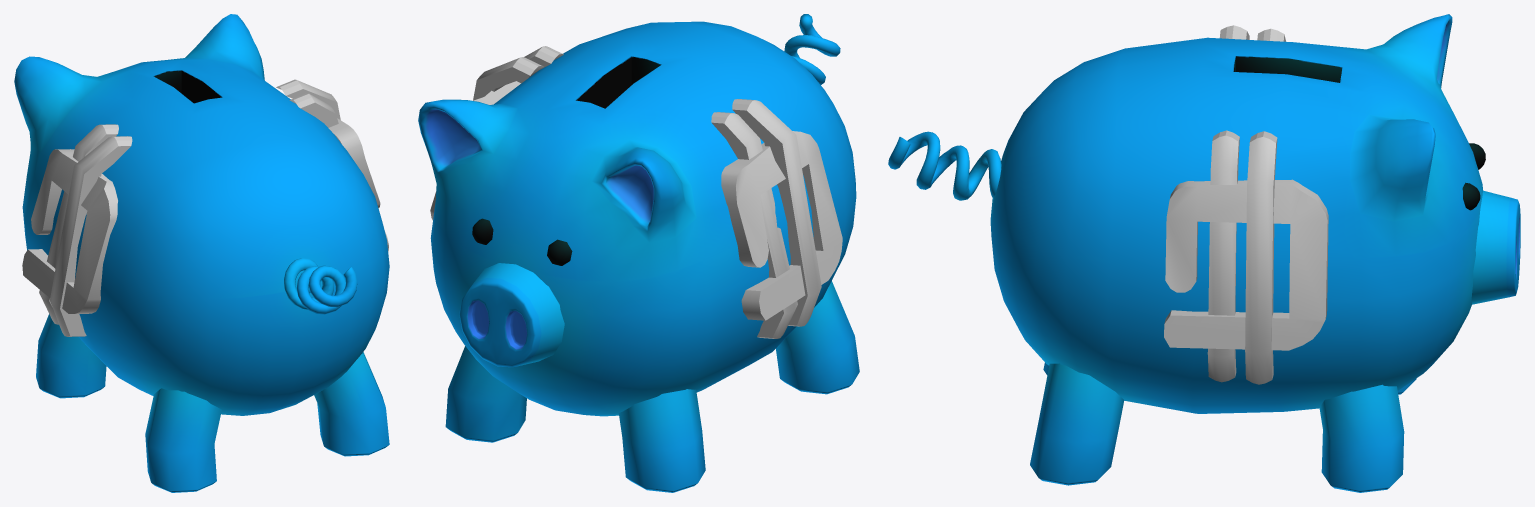
File: piggy.fbx
3 renders of one model, left to right at view 1: azimuth 30°, elevation 25°; view 2: azimuth 150°, elevation 25°; view 3: azimuth 270°, elevation 25°, orthographic. The views are drawn at different scales.
Parts seen in each view (by area): view 1: polySurface9.002; view 2: polySurface9.002; view 3: polySurface9.002.
Boxes of the visible parts, bbox=[...] form: polySurface9.002: bbox=[14, 14, 389, 492]; polySurface9.002: bbox=[418, 14, 859, 492]; polySurface9.002: bbox=[888, 14, 1520, 492].
Bounding box in the file's own units: 716 × 690 × 1077.
